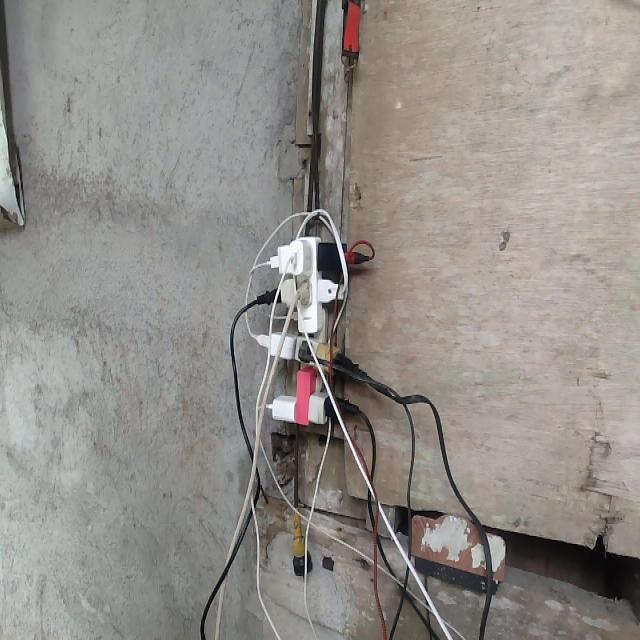-: (251, 234, 364, 426)
